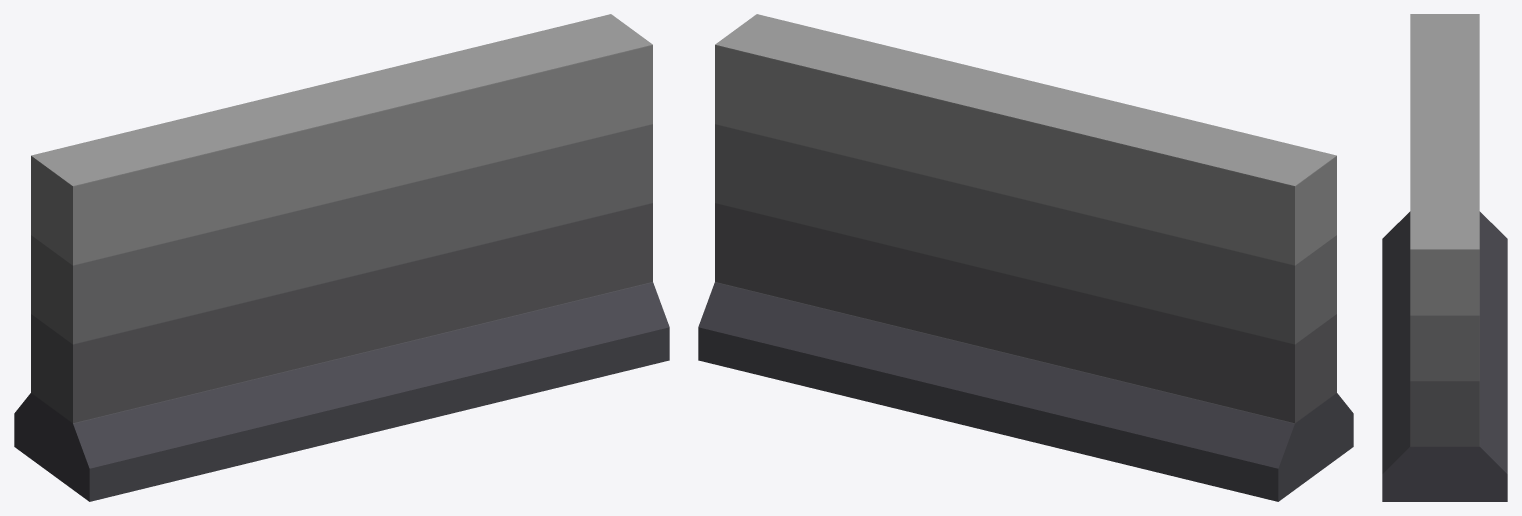
Rendered from RoadBlock.fbx.
3 views of the same model, side by side, from view 1: azimuth 30°, elevation 25°; view 2: azimuth 150°, elevation 25°; view 3: azimuth 270°, elevation 25° (orthographic). The views are drawn at different scales.
Parts seen in each view (by area): view 1: Cube; view 2: Cube; view 3: Cube.
Part boxes in pixels (<box>): Cube: <box>14,14,669,501</box>; Cube: <box>698,14,1353,501</box>; Cube: <box>1382,14,1507,501</box>.
Bounding box in the file's own units: 80 × 40 × 18.
